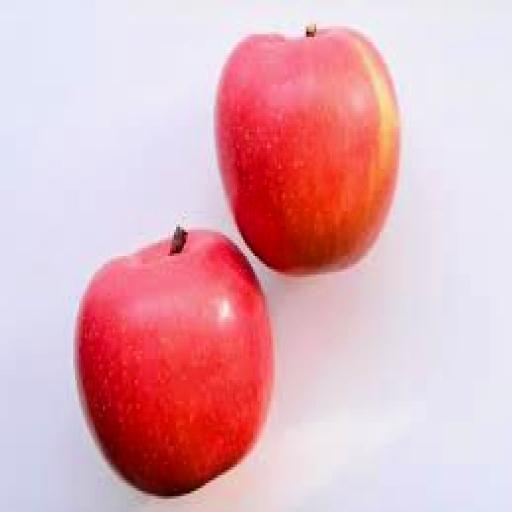apple: (76, 230, 272, 496), (216, 27, 399, 274)
